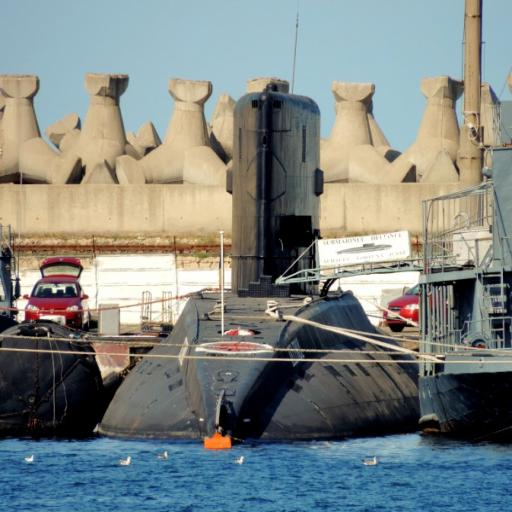submarine: (93, 93, 419, 444)
